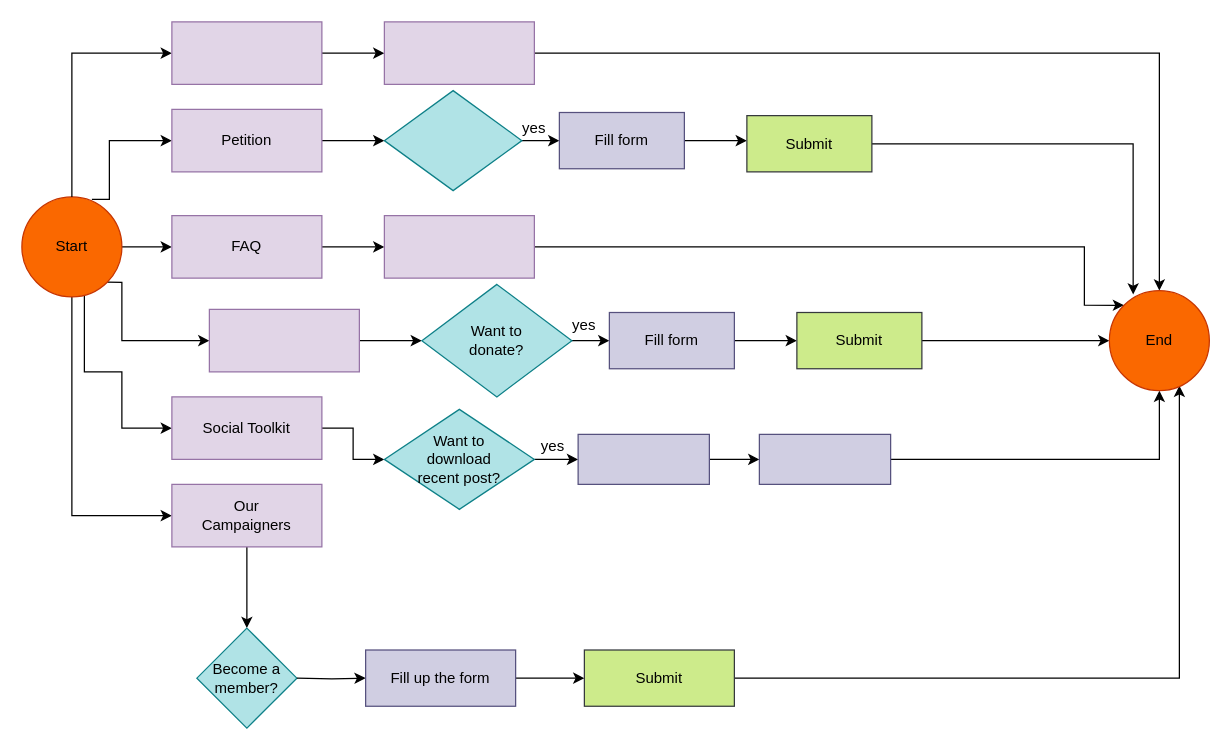
Image size: 1231x750. Some labels were removed from this diagram. The shapes that lost their labels are listed below. From the top down, each one's centre as x and y in pixels, then its label:
At point 246,52: "Non-profit".
At point 458,52: "Articles".
At point 452,140: "Articles?".
At point 458,246: "Questions".
At point 283,340: "Donate".
At point 643,458: "Downloading".
At point 824,458: "Downloaded".
